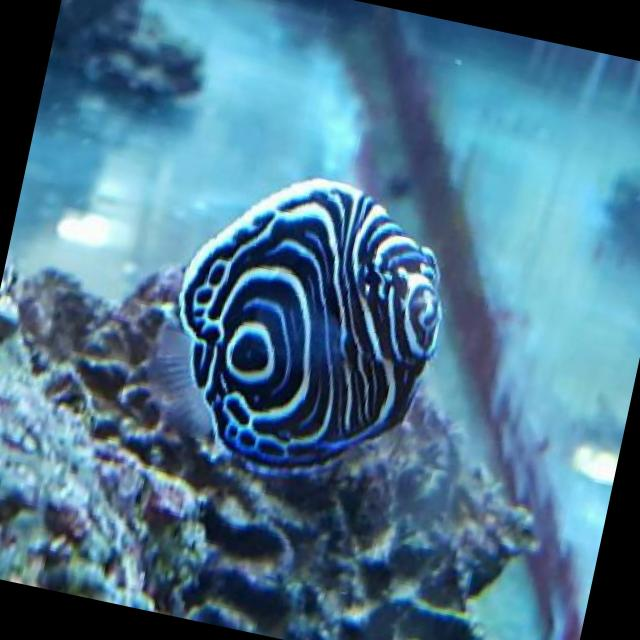AngelFish: (146, 152, 469, 494)
